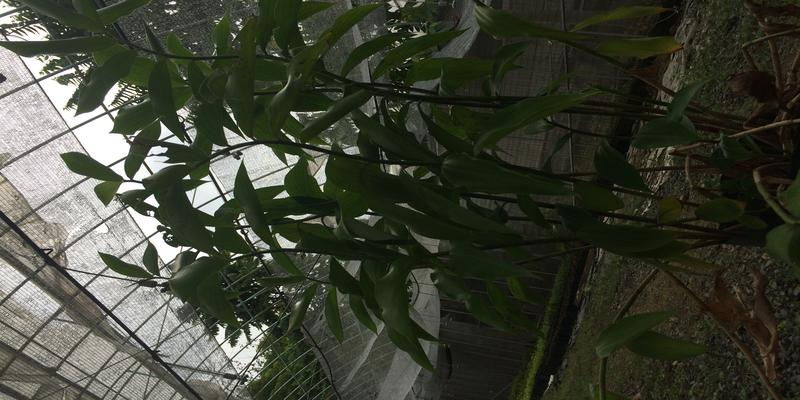Insulin: (71, 15, 738, 282)
